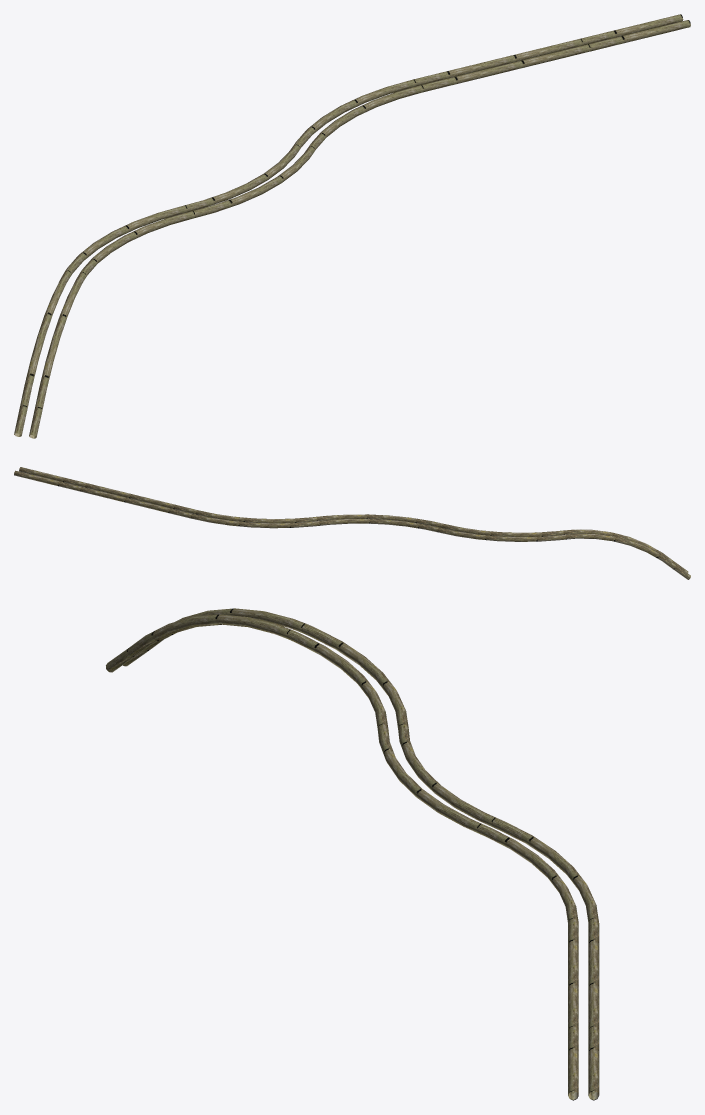
Rendered from pipe_1_colider.fbx.
3 renders of one model, top to bottom at view 1: azimuth 30°, elevation 25°; view 2: azimuth 150°, elevation 25°; view 3: azimuth 270°, elevation 25°, orthographic. The views are drawn at different scales.
Visible parts, largest first — view 1: pipe__1_; view 2: pipe__1_; view 3: pipe__1_.
Boxes of the visible parts, x1,y1,x2,y2 form: pipe__1_: (14,14,690,438); pipe__1_: (14,467,690,579); pipe__1_: (106,608,599,1100).
Size of the model in its own units: 2527 by 255 by 967.
